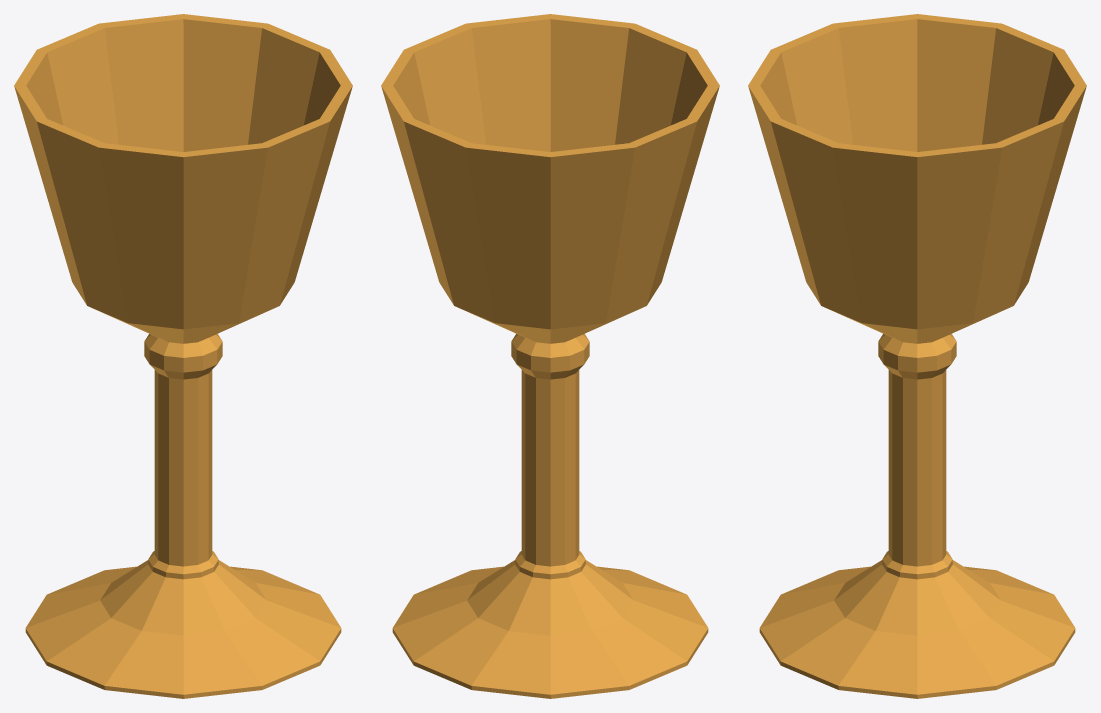
The model's file is Calice.fbx.
The picture shows the model from 3 angles, left to right: view 1: azimuth 30°, elevation 25°; view 2: azimuth 150°, elevation 25°; view 3: azimuth 270°, elevation 25°; orthographic projection.
Parts seen in each view (by area): view 1: Cylinder; view 2: Cylinder; view 3: Cylinder.
Part boxes in pixels (x1=…): Cylinder: x1=14, y1=14, x2=352, y2=698; Cylinder: x1=381, y1=14, x2=719, y2=698; Cylinder: x1=748, y1=14, x2=1086, y2=698.
Size of the model in its own units: 204 by 364 by 204.
